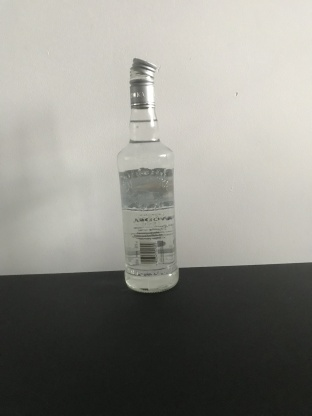nakretka: (128, 55, 158, 109)
